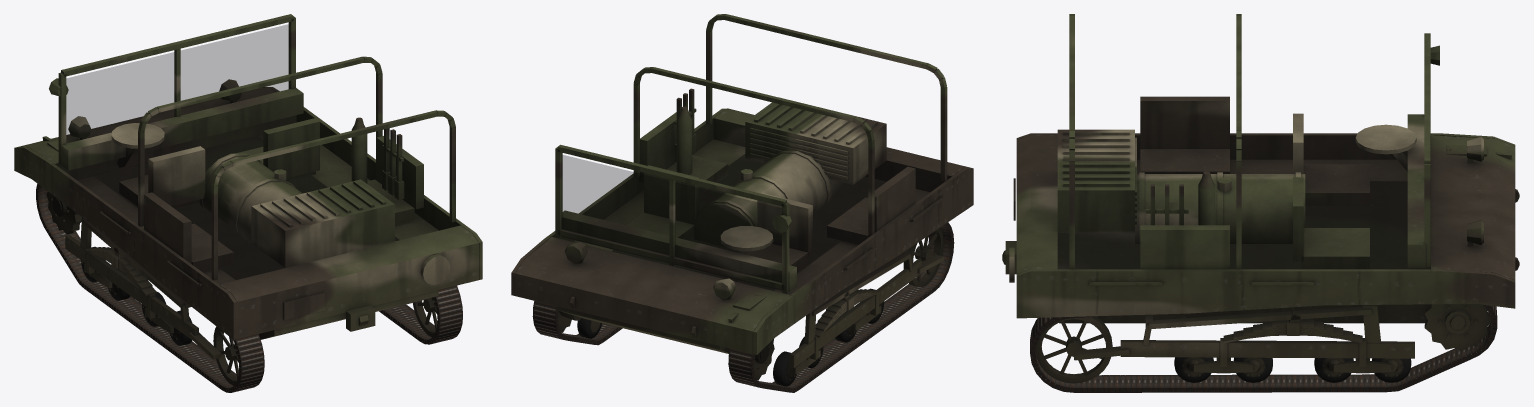
The picture shows the model from 3 angles, left to right: view 1: azimuth 30°, elevation 25°; view 2: azimuth 150°, elevation 25°; view 3: azimuth 270°, elevation 25°; orthographic projection. The views are drawn at different scales.
Parts seen in each view (by area): view 1: Chassis, Chenille_Gauche_01, Chenille_Droite_01, Roue_G6, Roue_G1, Roue_D6; view 2: Chassis, Chenille_Gauche_01, Chenille_Droite_01, Roue_G6, Roue_G2, Roue_G1; view 3: Chassis, Chenille_Droite_01, Roue_D1, Roue_D6, Roue_D5, Roue_D4, Roue_D2, Roue_D3.
Boxes of the visible parts, <box> form: Chassis: <box>14,14,482,359</box>; Chenille_Gauche_01: <box>36,183,264,392</box>; Chenille_Droite_01: <box>379,285,462,344</box>; Roue_G6: <box>213,326,238,385</box>; Roue_G1: <box>46,192,81,234</box>; Roue_D6: <box>413,297,437,337</box>; Chassis: <box>511,14,973,374</box>; Chenille_Gauche_01: <box>728,222,954,392</box>; Chenille_Droite_01: <box>532,301,622,345</box>; Roue_G6: <box>903,227,943,287</box>; Roue_G2: <box>773,351,796,386</box>; Roue_G1: <box>753,338,774,380</box>; Chassis: <box>1002,14,1519,373</box>; Chenille_Droite_01: <box>1030,304,1497,392</box>; Roue_D1: <box>1424,304,1491,351</box>; Roue_D6: <box>1035,316,1112,383</box>; Roue_D5: <box>1174,357,1213,382</box>; Roue_D4: <box>1233,357,1272,382</box>; Roue_D2: <box>1372,358,1411,382</box>; Roue_D3: <box>1314,358,1353,382</box>.
Size of the model in its own units: 186 by 289 by 159.
Materials: 4 (3 with a texture image).
